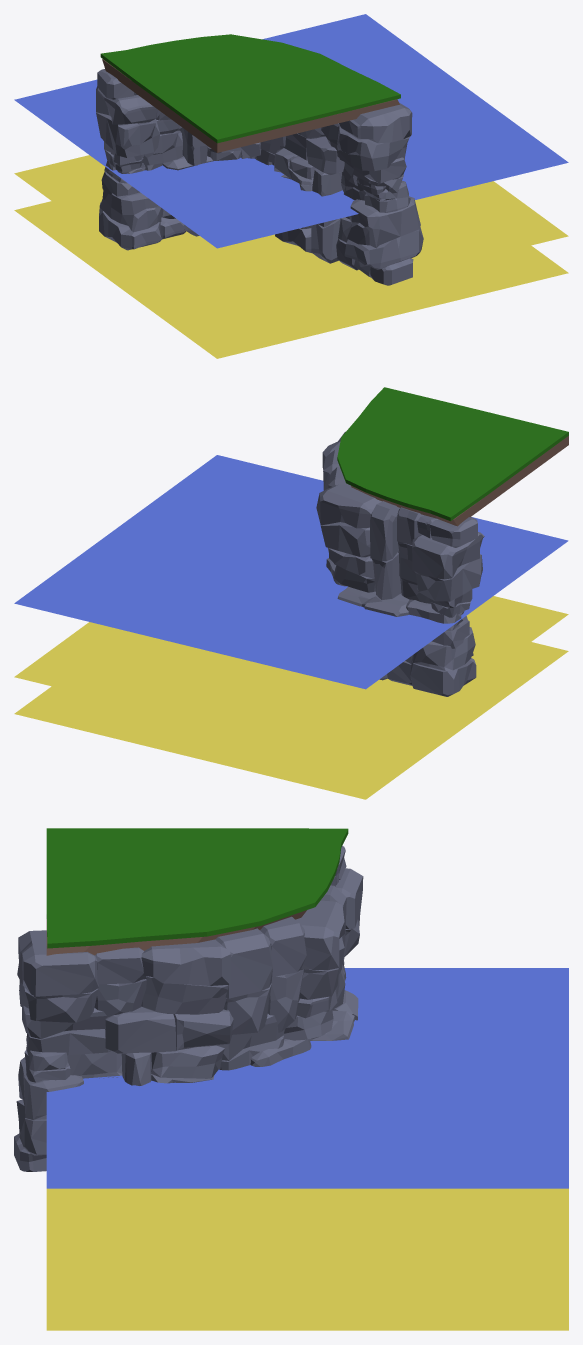
File: 03__tile.fbx
3 renders of one model, top to bottom at view 1: azimuth 30°, elevation 25°; view 2: azimuth 150°, elevation 25°; view 3: azimuth 270°, elevation 25°, orthographic. The views are drawn at different scales.
Visible parts, largest first — view 1: 03__tile; view 2: 03__tile; view 3: 03__tile.
Part boxes in pixels (x1,y1,x2,y2): 03__tile: (14,14,568,358); 03__tile: (14,387,568,799); 03__tile: (14,828,568,1330).
Size of the model in its own units: 205 by 119 by 212.
